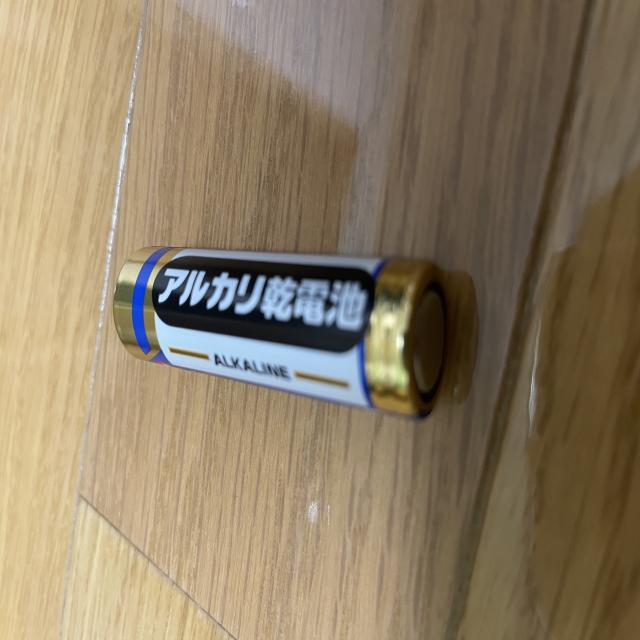hazardous waste: (110, 231, 466, 431)
